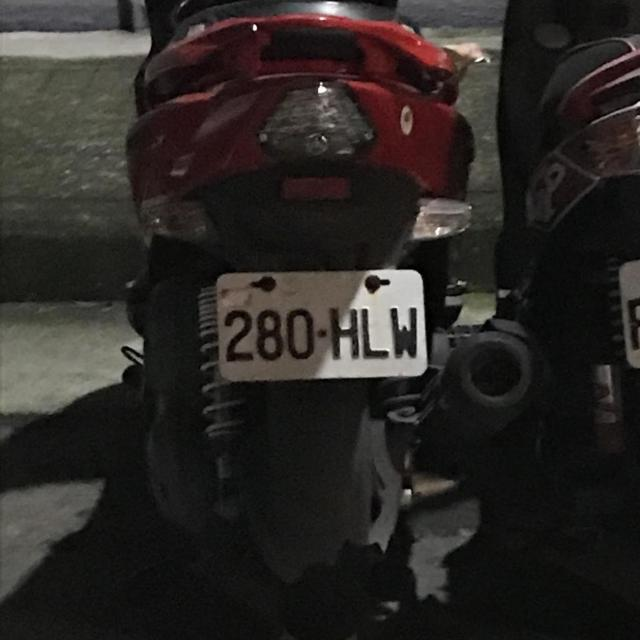W: (202, 248, 439, 404), (608, 232, 640, 383)
